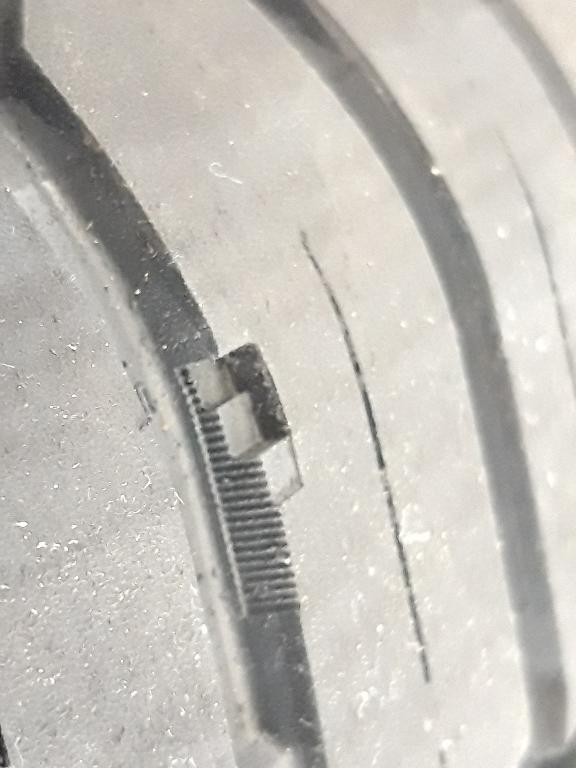temoin:50: (158, 325, 339, 543)
